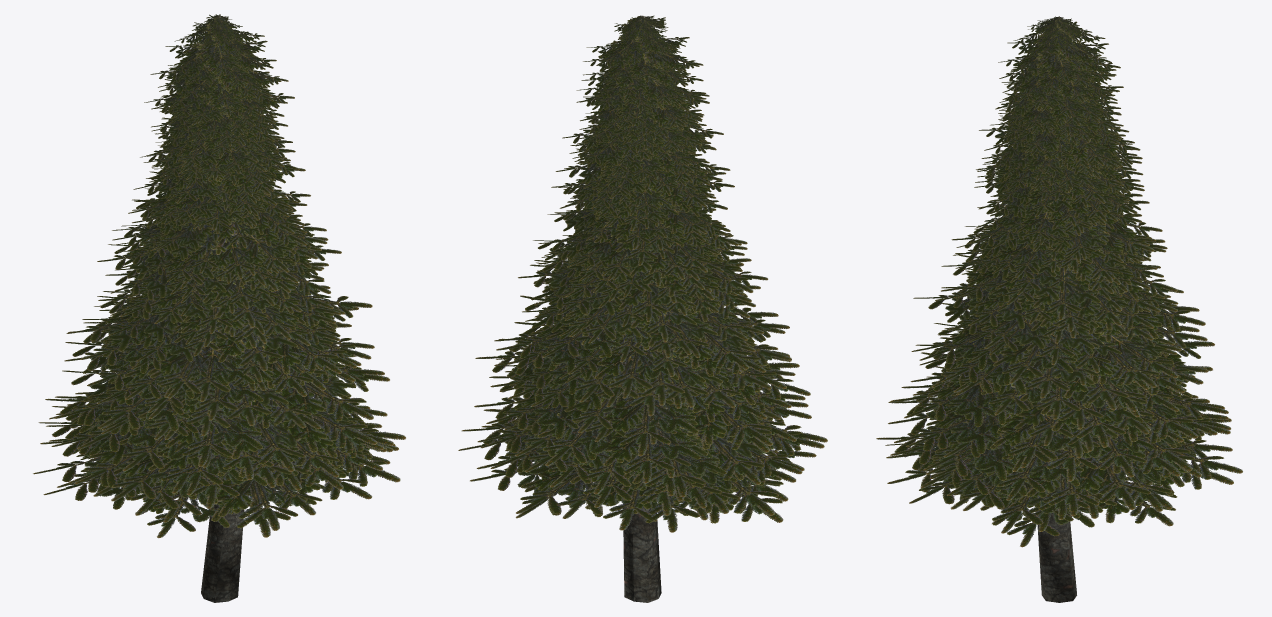
The model's file is Black Spruce.fbx.
3 renders of one model, left to right at view 1: azimuth 30°, elevation 25°; view 2: azimuth 150°, elevation 25°; view 3: azimuth 270°, elevation 25°, orthographic.
Parts seen in each view (by area): view 1: Tree, Trunk; view 2: Tree, Trunk; view 3: Tree, Trunk.
Boxes of the visible parts, x1,y1,x2,y2 form: Tree: (33,14,405,538); Trunk: (201,530,242,602); Tree: (458,15,827,535); Trunk: (623,526,661,602); Tree: (876,16,1242,547); Trunk: (1038,534,1076,602).
Size of the model in its own units: 985 by 1536 by 953.
